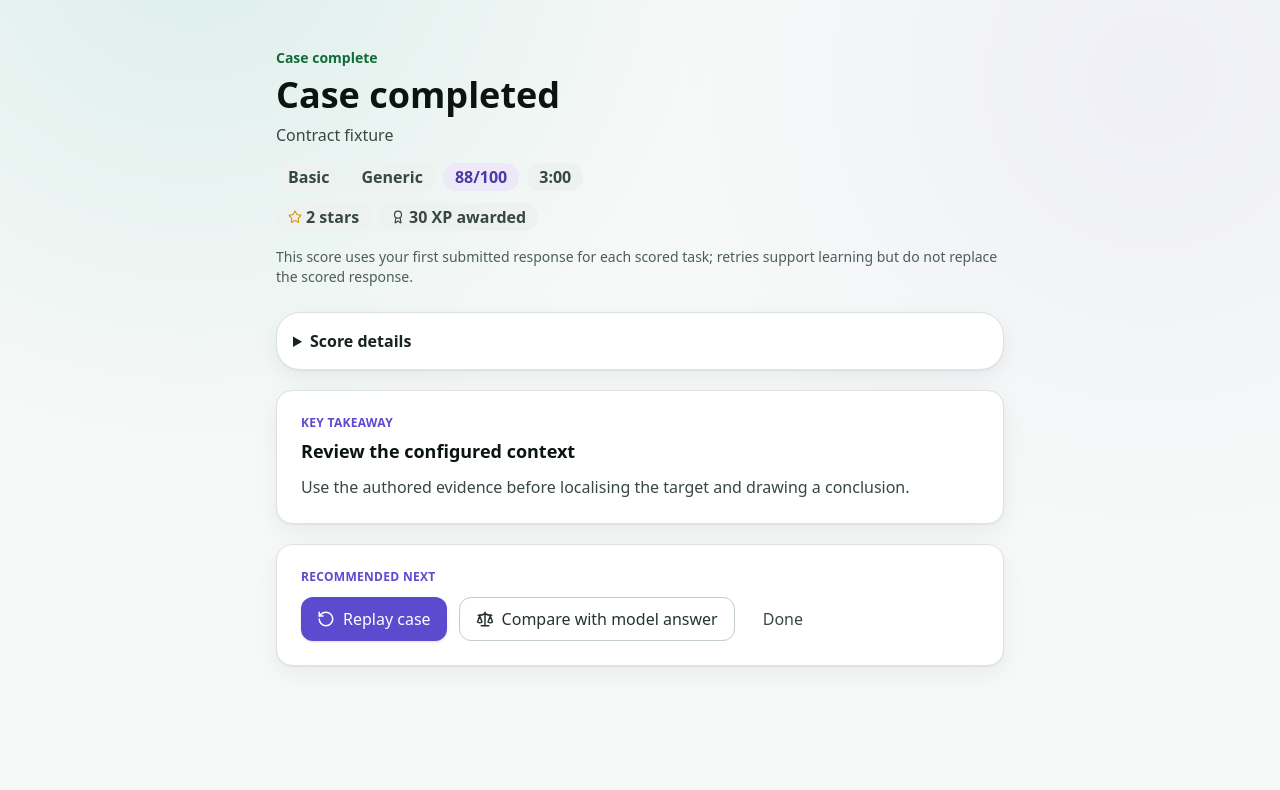
it: Case Lab routes › renders persisted v6 speed components and actual awarded XP without reconstruction
Click the heading "Score details" at (361, 341), box [310,330,411,352]
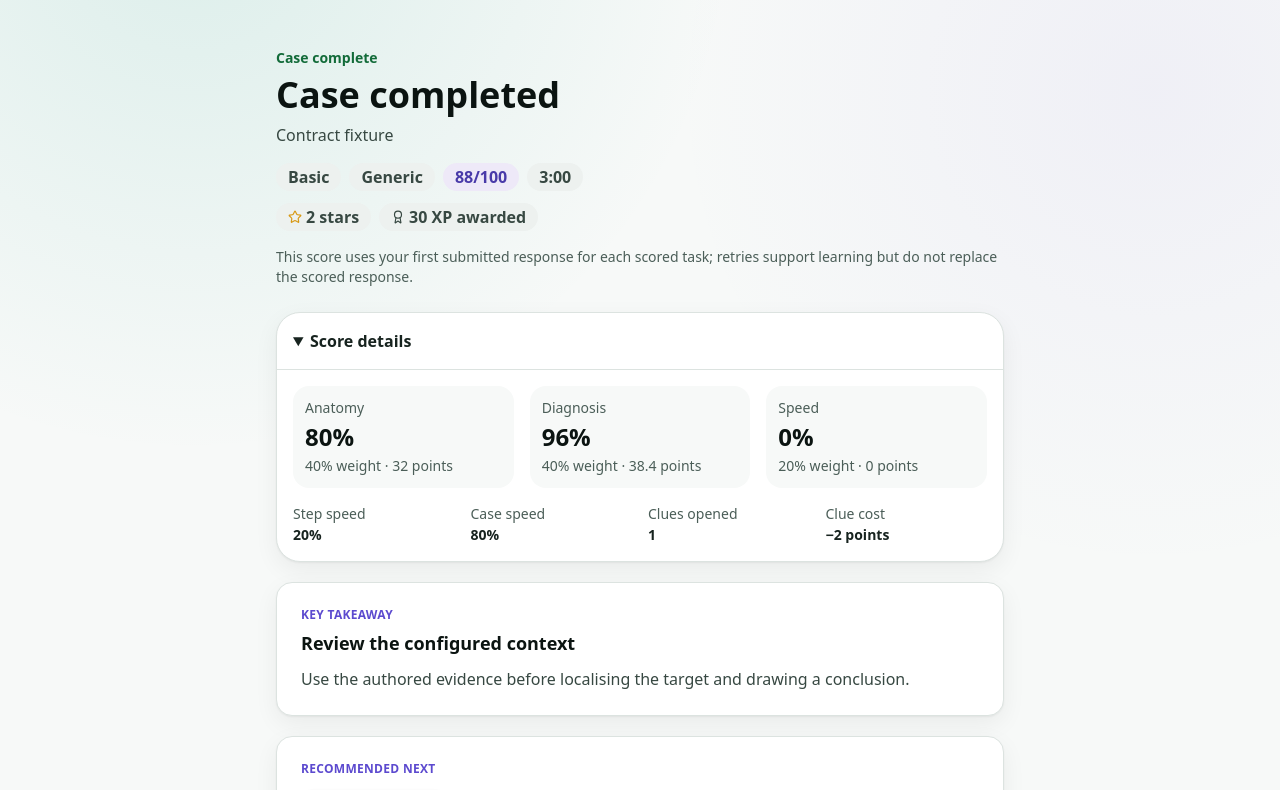
expect the text "20%" is shown: met, box [293,525,322,544]
expect the text "80%" is shown 2 times: met, box [305,420,354,453]; [470,525,499,544]
expect the text "−2 points" is shown: met, box [826,525,889,544]
